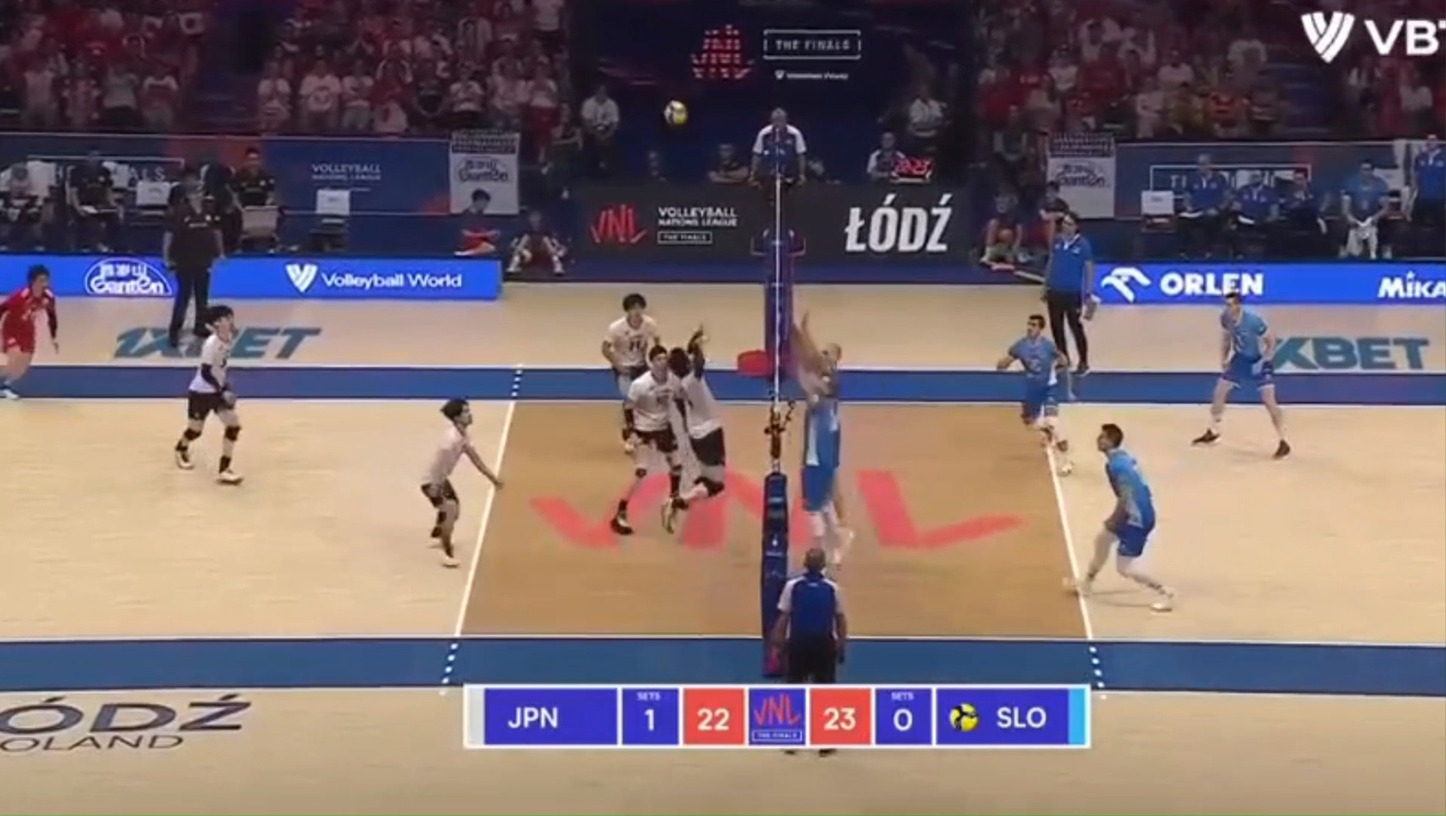ball: (663, 100, 687, 126)
player: (1071, 423, 1173, 610), (1191, 291, 1290, 457), (793, 314, 852, 561), (996, 314, 1072, 474), (997, 314, 1072, 474), (795, 361, 841, 566)
player 1: (420, 398, 502, 566), (610, 345, 682, 533), (663, 329, 725, 531), (174, 304, 243, 484), (601, 293, 660, 453), (0, 264, 57, 397)
referee: (162, 172, 224, 346), (775, 549, 846, 682), (1043, 211, 1097, 376), (750, 108, 806, 257)
